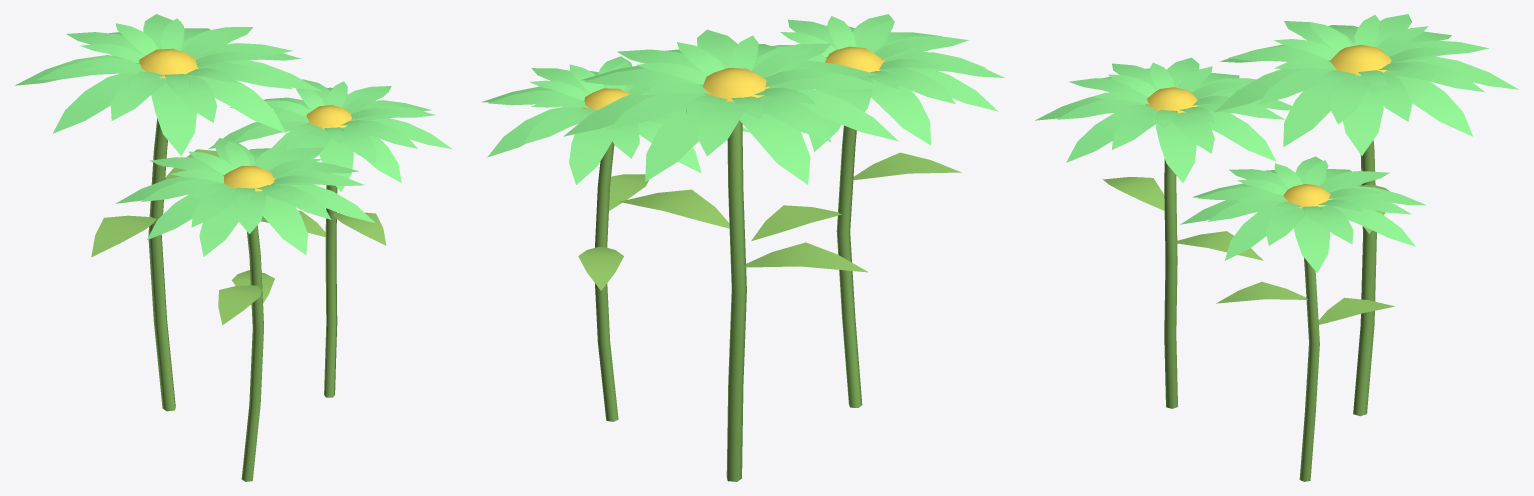
The model's file is flowers03_green.fbx.
3 renders of one model, left to right at view 1: azimuth 30°, elevation 25°; view 2: azimuth 150°, elevation 25°; view 3: azimuth 270°, elevation 25°, orthographic. The views are drawn at different scales.
Parts seen in each view (by area): view 1: flowers03_green; view 2: flowers03_green; view 3: flowers03_green.
Boxes of the visible parts, left/top/right/bottom form: flowers03_green: left=15, top=14, right=452, bottom=481; flowers03_green: left=482, top=14, right=1004, bottom=481; flowers03_green: left=1035, top=14, right=1518, bottom=481.
Size of the model in its own units: 1.09 by 0.9966 by 1.21.
